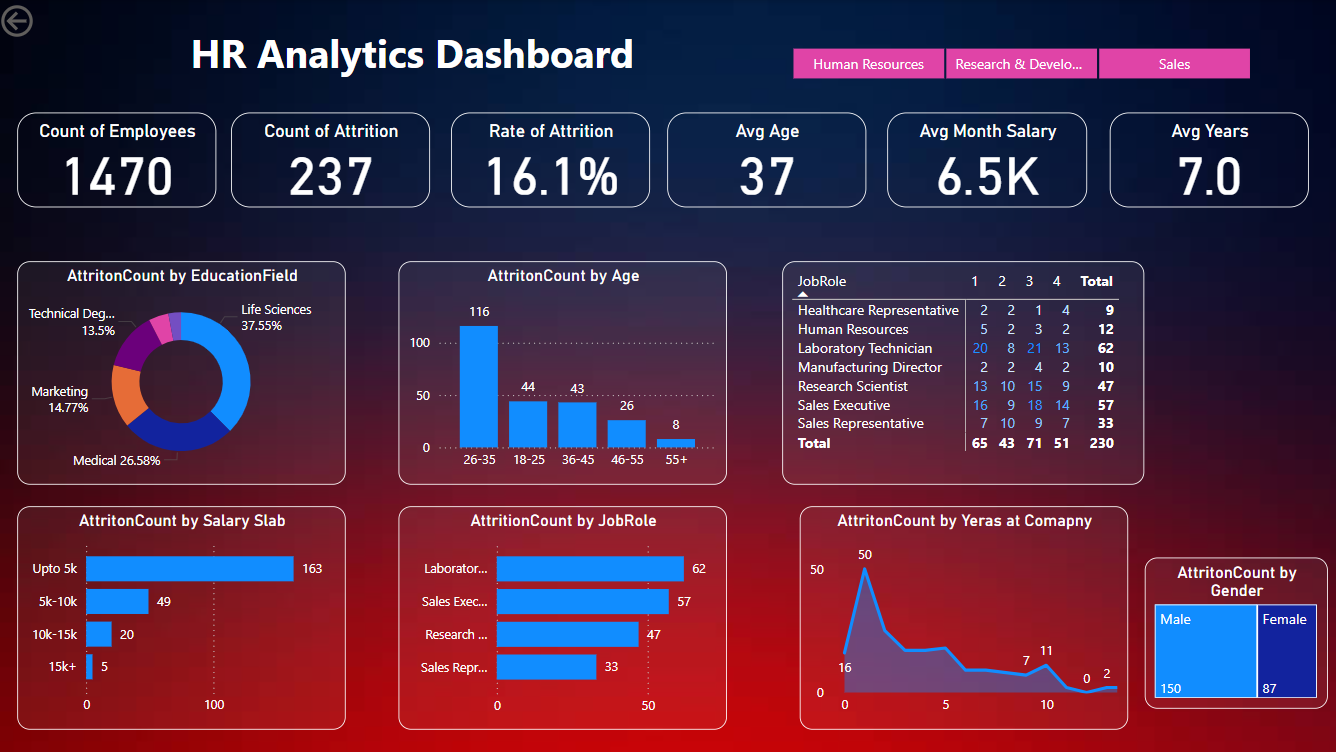

Layout of this report page (visuals, bound fields, positions):
{"tool":"powerbi","page":{"name":"Page 1","canvas":[1280,720],"ordinal":0},"visuals":[{"type":"card","title":"Count of Employees","fields":{"Values":["Sum(HR_Analytics.EmployeeCount)"]},"box":[20.2,107.1,189.3,90.5],"z":0},{"type":"card","title":"Count of Attrition","fields":{"Values":["Sum(HR_Analytics.AttritonCount)"]},"box":[223.8,107.1,189.3,90.5],"z":1000},{"type":"card","title":"Rate of Attrition","fields":{"Values":["HR_Analytics.AttritionRate"]},"box":[433.3,107.1,189.3,90.5],"z":2000},{"type":"card","title":"Avg Age","fields":{"Values":["Avg(HR_Analytics.Age)"]},"box":[639.3,107.1,189.3,90.5],"z":3000},{"type":"card","title":"Avg Month Salary","fields":{"Values":["Avg(HR_Analytics.MonthlyIncome)"]},"box":[848.8,107.1,190.5,90.5],"z":4000},{"type":"card","title":"Avg Years","fields":{"Values":["Avg(HR_Analytics.YearsAtCompany)"]},"box":[1060.7,107.1,189.3,90.5],"z":5000},{"type":"donutChart","title":"AttritonCount by EducationField","fields":{"Y":["Sum(HR_Analytics.AttritonCount)"],"Category":["HR_Analytics.EducationField"]},"box":[20.6,248.4,312.9,212.7],"z":6000},{"type":"columnChart","title":"AttritonCount by Age","fields":{"Category":["HR_Analytics.AgeGroup"],"Y":["Sum(HR_Analytics.AttritonCount)"]},"box":[382.8,248.4,312.9,212.7],"z":7000},{"type":"clusteredBarChart","title":"AttritonCount by Salary Slab","fields":{"Y":["Sum(HR_Analytics.AttritonCount)"],"Category":["HR_Analytics.SalarySlab"]},"box":[20.6,481.6,312.9,212.7],"z":8000},{"type":"barChart","title":"AttritionCount by JobRole","fields":{"Y":["Sum(HR_Analytics.AttritonCount)"],"Category":["HR_Analytics.JobRole"]},"box":[383,482,313,213],"z":9000},{"type":"areaChart","title":"AttritonCount by Yeras at Comapny","fields":{"Category":["HR_Analytics.YearsAtCompany"],"Y":["Sum(HR_Analytics.AttritonCount)"]},"box":[765.7,481.6,312.9,212.7],"z":10000},{"type":"pivotTable","fields":{"Rows":["HR_Analytics.JobRole"],"Columns":["HR_Analytics.JobSatisfaction"],"Values":["Sum(HR_Analytics.AttritonCount)"]},"box":[749.2,248.4,344.4,212.7],"z":11000},{"type":"treemap","title":"AttritonCount by Gender","fields":{"Group":["HR_Analytics.Gender"],"Values":["Sum(HR_Analytics.AttritonCount)"]},"box":[1093.7,531,174.3,144.1],"z":12000},{"type":"slicer","fields":{"Values":["HR_Analytics.Department"]},"box":[733.6,39.8,484.9,42.6],"z":13000},{"type":"actionButton","box":[0,0,100,40],"z":14000},{"type":"textbox","box":[78.3,20.6,636,68.7],"z":15000}]}

Visuals, with their boxes in screenshot pixels (x1, y1, x2, y2), scaled from the page's 1280x720 canvas onto the 1336x752 screenshot:
"Count of Employees" card: [21,112,219,206]
"Count of Attrition" card: [234,112,431,206]
"Rate of Attrition" card: [452,112,650,206]
"Avg Age" card: [667,112,865,206]
"Avg Month Salary" card: [886,112,1085,206]
"Avg Years" card: [1107,112,1305,206]
"AttritonCount by EducationField" donutChart: [22,259,348,482]
"AttritonCount by Age" columnChart: [400,259,726,482]
"AttritonCount by Salary Slab" clusteredBarChart: [22,503,348,725]
"AttritionCount by JobRole" barChart: [400,503,726,726]
"AttritonCount by Yeras at Comapny" areaChart: [799,503,1126,725]
pivotTable - HR_Analytics.JobRole x HR_Analytics.JobSatisfaction: [782,259,1141,482]
"AttritonCount by Gender" treemap: [1142,555,1323,705]
slicer - HR_Analytics.Department: [766,42,1272,86]
actionButton: [0,0,104,42]
textbox: [82,22,746,93]
